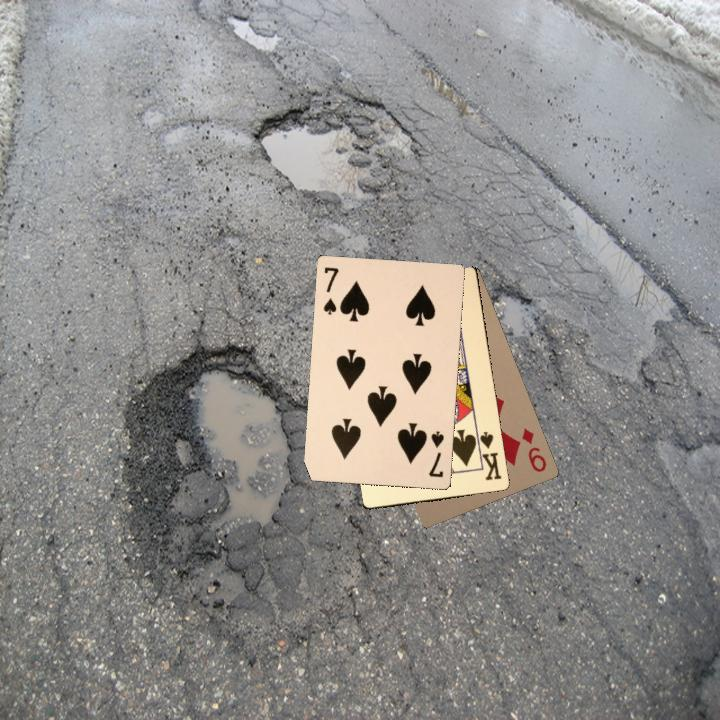7s: (424, 427, 447, 480), (319, 263, 341, 317)
9d: (518, 423, 549, 475)
Ks: (472, 429, 504, 483)
